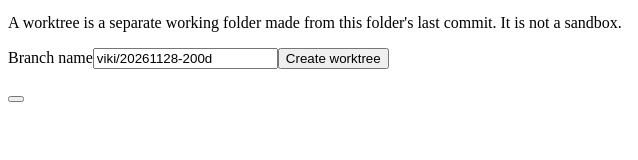
Test: create refused with session_exists says its words under the form
Replace the text in the field labelled "Branch name" with "viki/x" at (185, 58), box x1=93 y1=48 x2=278 y2=69
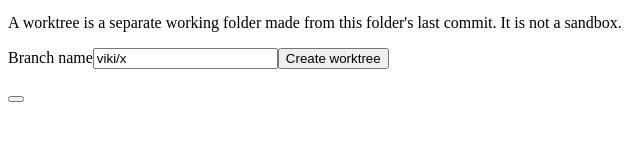
Click the button "Create worktree" at (333, 58), box x1=278 y1=48 x2=389 y2=69
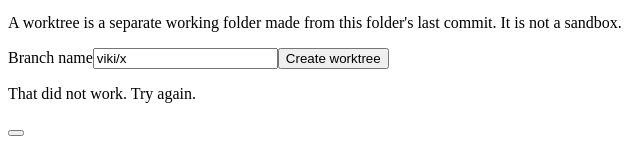
Now the text "That did not work. Try again." is shown, box x1=8 y1=85 x2=196 y2=102
